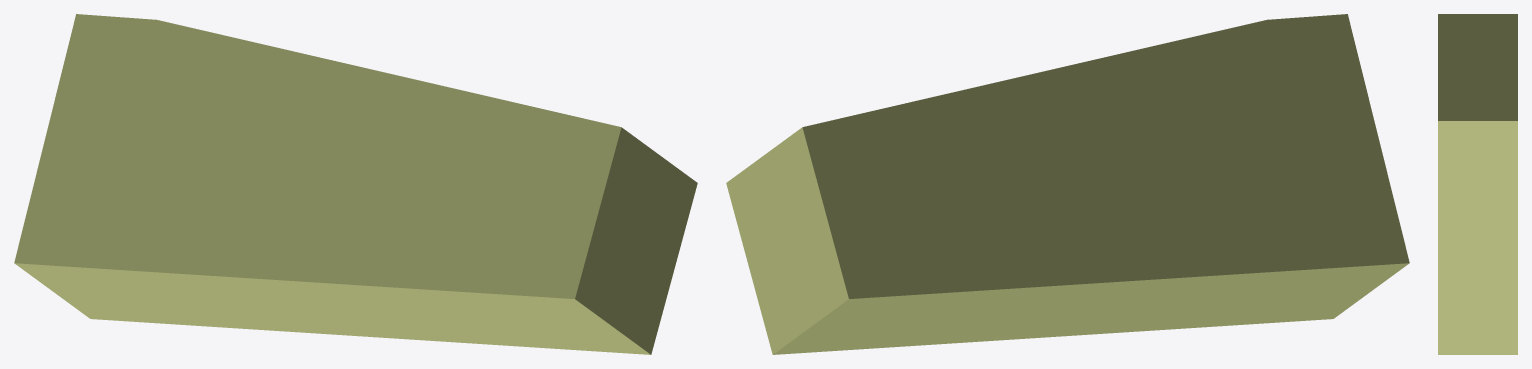
3 renders of one model, left to right at view 1: azimuth 30°, elevation 25°; view 2: azimuth 150°, elevation 25°; view 3: azimuth 270°, elevation 25°, orthographic. The views are drawn at different scales.
Visible parts, largest first — view 1: 0_1_2_0_1_0_1_1; view 2: 0_1_2_0_1_0_1_1; view 3: 0_1_2_0_1_0_1_1.
Part boxes in pixels (box(x1,y1,x2,y2)): 0_1_2_0_1_0_1_1: box(14, 14, 697, 354); 0_1_2_0_1_0_1_1: box(726, 14, 1409, 354); 0_1_2_0_1_0_1_1: box(1438, 14, 1517, 354).
Size of the model in its own units: 27.58 by 17.66 by 6.
